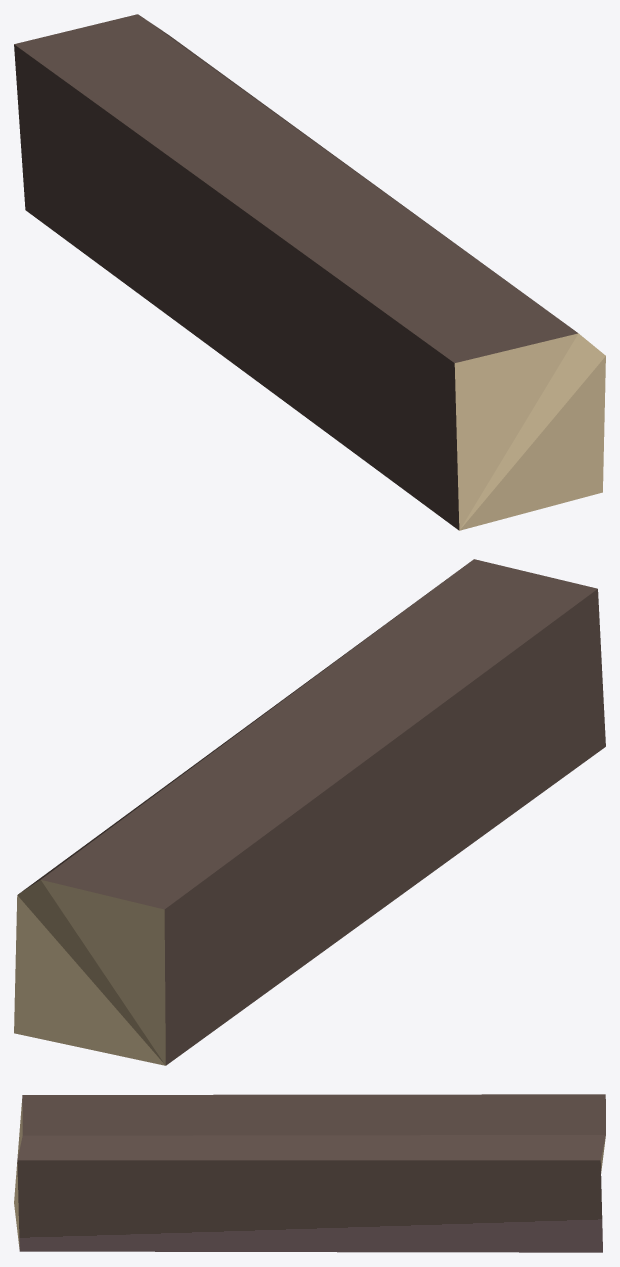
Rendered from beam_07.fbx.
3 views of the same model, one above another, from view 1: azimuth 30°, elevation 25°; view 2: azimuth 150°, elevation 25°; view 3: azimuth 270°, elevation 25° (orthographic). The views are drawn at different scales.
Visible parts, largest first — view 1: beam_07; view 2: beam_07; view 3: beam_07.
Part boxes in pixels (left/top/right/bottom): beam_07: left=14, top=14, right=605, bottom=530; beam_07: left=14, top=559, right=605, bottom=1065; beam_07: left=14, top=1094, right=605, bottom=1252.
Bounding box in the file's own units: 13.17 × 13.45 × 66.23.
Materials: 1 (1 with a texture image).
